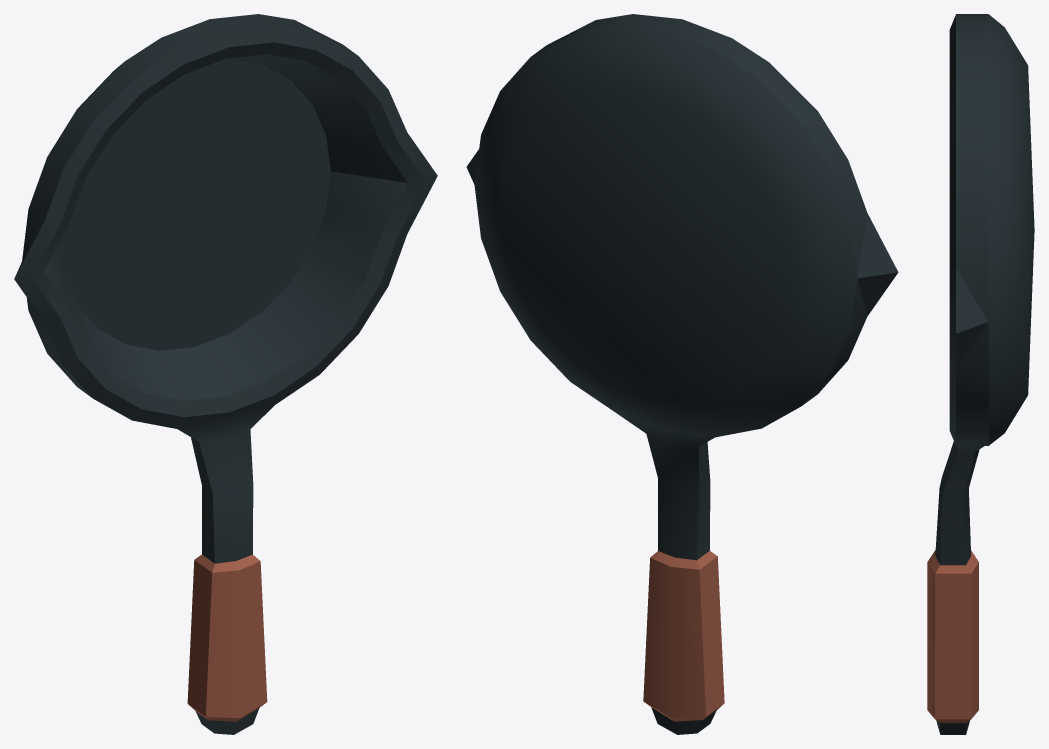
File: pan.gltf.glb
3 views of the same model, side by side, from view 1: azimuth 30°, elevation 25°; view 2: azimuth 150°, elevation 25°; view 3: azimuth 270°, elevation 25° (orthographic). The views are drawn at different scales.
Visible parts, largest first — view 1: pan; view 2: pan; view 3: pan.
Boxes of the visible parts, left/top/right/bottom form: pan: left=14, top=14, right=437, bottom=734; pan: left=466, top=14, right=898, bottom=734; pan: left=927, top=14, right=1034, bottom=734.
Size of the model in its own units: 0.9791 by 1.54 by 0.2147.
